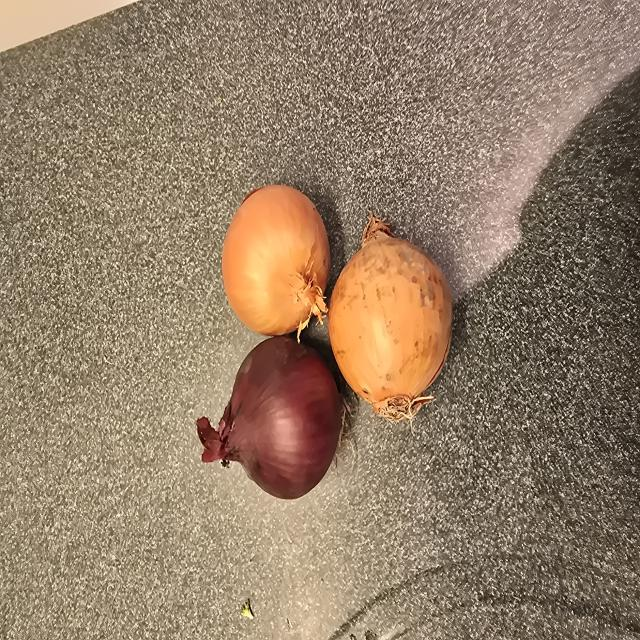Onion: (328, 213, 452, 421), (197, 336, 344, 499), (222, 185, 330, 336)
